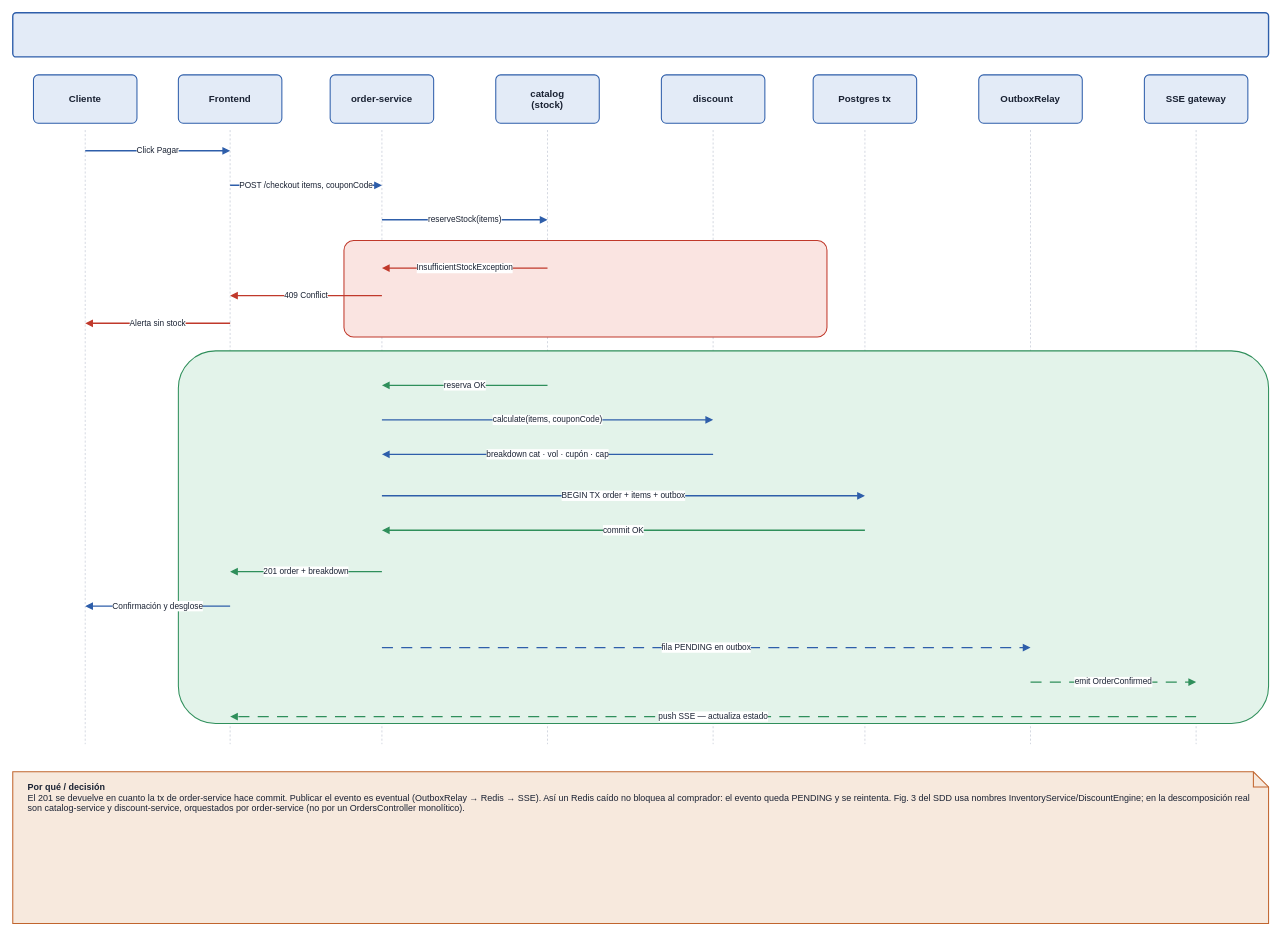
Image size: 1281x936. Some labels were removed from this diagram. The centre of each missing label's shape, as x and y in pixels:
alt stock insuficiente: the point at 585,288
else stock disponible: the point at 723,537
Fig. 3 — Secuencia del checkout SDD §05 · El cliente nunca espera al canal SSE: the point at 640,34
